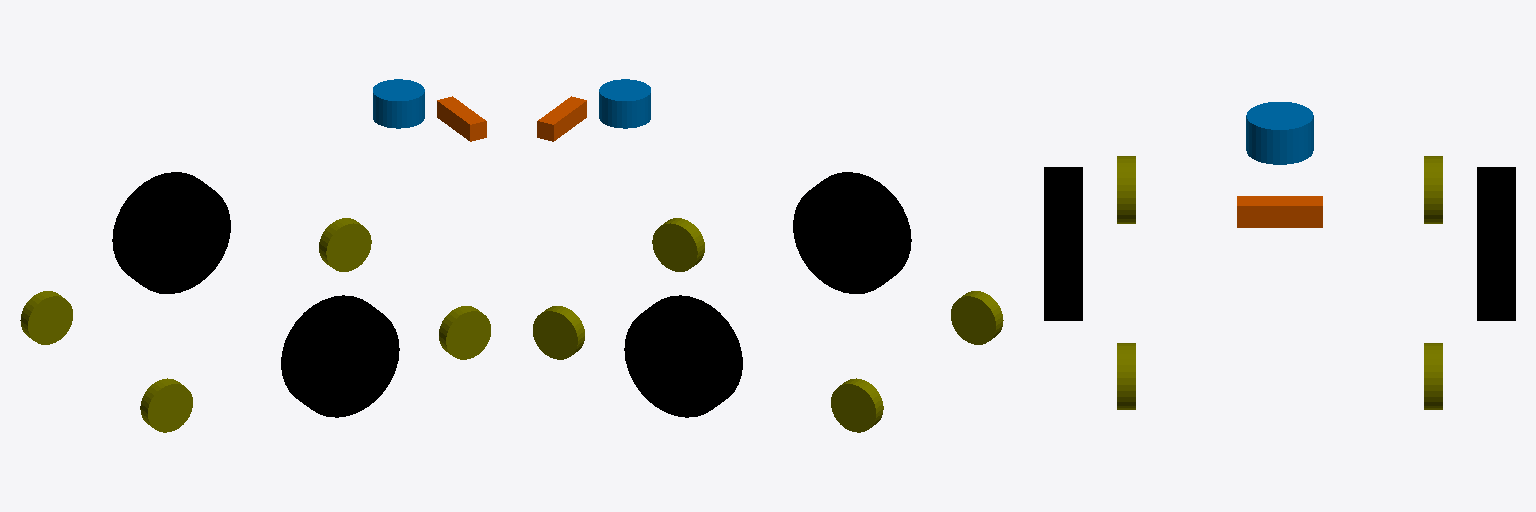
The robot description file, URDF, robot "xxx":
<?xml version="1.0" ?>
<!-- =================================================================================== -->
<!-- |    This document was autogenerated by xacro from src/xxx_gazebo/robot/xxx.xacro | -->
<!-- |    EDITING THIS FILE BY HAND IS NOT RECOMMENDED                                 | -->
<!-- =================================================================================== -->
<robot name="xxx">
  <!-- Read in the yaml dict as mp (short for model parameters) -->
  <!-- Read in the yaml dict as mp (short for model parameters) -->
  <link name="base_link">
    <visual>
      <origin rpy="0.0 0.0 1.5707963267948966" xyz="0.0 0.0 -0.018"/>
      <geometry>
        <mesh filename="[local-path]/xxx2_ws/install/xxx_description/share/xxx_description/meshes/coconut.stl"/>
      </geometry>
      <material name="chassis_color">
        <color rgba="1 1 1 1"/>
      </material>
    </visual>
    <inertial>
      <origin xyz="0.0002 0.0001 -0.0001"/>
      <mass value="40.0"/>
      <inertia ixx="1.79366667" ixy="0" ixz="0" iyy="1.28666667" iyz="0" izz="0.230966667"/>
    </inertial>
    <collision>
      <geometry>
        <box size="0.65 0.55 0.25"/>
      </geometry>
    </collision>
  </link>
  <link name="base_footprint"/>
  <joint name="base_offset" type="fixed">
    <parent link="base_footprint"/>
    <child link="base_link"/>
    <origin xyz="0.0 0.0 0.165"/>
  </joint>
  <link name="left_wheel">
    <visual>
      <origin rpy="0.0 0.0 0.0" xyz="0.0 0.0 0.0"/>
      <geometry>
        <cylinder length="0.04" radius="0.08"/>
      </geometry>
      <material name="left_wheel_color">
        <color rgba="0 0 0 1"/>
      </material>
    </visual>
    <inertial>
      <origin xyz="0 0 0"/>
      <mass value="2.9"/>
      <inertia ixx="0.00564437" ixy="0" ixz="0" iyy="0.00564437" iyz="0" izz="0.01047625"/>
    </inertial>
    <collision>
      <geometry>
        <cylinder length="0.04" radius="0.08"/>
      </geometry>
      <surface>
        <friction>
          <ode>
            <mu>1000</mu>
            <mu2>1000</mu2>
          </ode>
        </friction>
      </surface>
    </collision>
  </link>
  <joint name="left_wheel_joint" type="continuous">
    <origin rpy="-1.5707963267948966 0.0 0.0" xyz="0.0 0.225 -0.085"/>
    <parent link="base_link"/>
    <child link="left_wheel"/>
    <axis xyz="0.0 0.0 1.0"/>
    <joint_properties damping="1.0" friction="1.0"/>
  </joint>
  <link name="right_wheel">
    <visual>
      <origin rpy="0.0 0.0 0.0" xyz="0.0 0.0 0.0"/>
      <geometry>
        <cylinder length="0.04" radius="0.08"/>
      </geometry>
      <material name="right_wheel_color">
        <color rgba="0 0 0 1"/>
      </material>
    </visual>
    <inertial>
      <origin xyz="0 0 0"/>
      <mass value="2.9"/>
      <inertia ixx="0.00564437" ixy="0" ixz="0" iyy="0.00564437" iyz="0" izz="0.01047625"/>
    </inertial>
    <collision>
      <geometry>
        <cylinder length="0.04" radius="0.08"/>
      </geometry>
      <surface>
        <friction>
          <ode>
            <mu>1000</mu>
            <mu2>1000</mu2>
          </ode>
        </friction>
      </surface>
    </collision>
  </link>
  <joint name="right_wheel_joint" type="continuous">
    <origin rpy="-1.5707963267948966 0.0 0.0" xyz="0.0 -0.225 -0.085"/>
    <parent link="base_link"/>
    <child link="right_wheel"/>
    <axis xyz="0.0 0.0 1.0"/>
    <joint_properties damping="1.0" friction="1.0"/>
  </joint>
  <link name="left_front_castor">
    <visual>
      <geometry>
        <cylinder length="0.02" radius="0.035"/>
      </geometry>
      <material name="left_front_castor_color">
        <color rgba="0.5 0.5 0 1"/>
      </material>
    </visual>
    <inertial>
      <origin xyz="0 0 0"/>
      <mass value="0.2"/>
      <inertia ixx="4.437e-05" ixy="0" ixz="0" iyy="4.437e-05" iyz="0" izz="0.00047625"/>
    </inertial>
    <collision>
      <geometry>
        <cylinder length="0.02" radius="0.035"/>
      </geometry>
      <surface>
        <friction>
          <ode>
            <mu>0</mu>
            <mu2>0</mu2>
          </ode>
        </friction>
      </surface>
    </collision>
  </link>
  <joint name="left_front_castor_joint" type="continuous">
    <origin rpy="-1.5707963267948966 0 0" xyz="           0.23            0.16            -0.12990000000000002         "/>
    <parent link="base_link"/>
    <child link="left_front_castor"/>
    <axis xyz="0.0 0.0 1.0"/>
  </joint>
  <link name="right_front_castor">
    <visual>
      <geometry>
        <cylinder length="0.02" radius="0.035"/>
      </geometry>
      <material name="right_front_castor_color">
        <color rgba="0.5 0.5 0 1"/>
      </material>
    </visual>
    <inertial>
      <origin xyz="0 0 0"/>
      <mass value="0.2"/>
      <inertia ixx="4.437e-05" ixy="0" ixz="0" iyy="4.437e-05" iyz="0" izz="0.00047625"/>
    </inertial>
    <collision>
      <geometry>
        <cylinder length="0.02" radius="0.035"/>
      </geometry>
      <surface>
        <friction>
          <ode>
            <mu>0</mu>
            <mu2>0</mu2>
          </ode>
        </friction>
      </surface>
    </collision>
  </link>
  <joint name="right_front_castor_joint" type="continuous">
    <origin rpy="-1.5707963267948966 0 0" xyz="           -0.23            0.16            -0.12990000000000002         "/>
    <parent link="base_link"/>
    <child link="right_front_castor"/>
    <axis xyz="0.0 0.0 1.0"/>
  </joint>
  <link name="left_rear_castor">
    <visual>
      <geometry>
        <cylinder length="0.02" radius="0.035"/>
      </geometry>
      <material name="left_rear_castor_color">
        <color rgba="0.5 0.5 0 1"/>
      </material>
    </visual>
    <inertial>
      <origin xyz="0 0 0"/>
      <mass value="0.2"/>
      <inertia ixx="4.437e-05" ixy="0" ixz="0" iyy="4.437e-05" iyz="0" izz="0.00047625"/>
    </inertial>
    <collision>
      <geometry>
        <cylinder length="0.02" radius="0.035"/>
      </geometry>
      <surface>
        <friction>
          <ode>
            <mu>0</mu>
            <mu2>0</mu2>
          </ode>
        </friction>
      </surface>
    </collision>
  </link>
  <joint name="left_rear_castor_joint" type="continuous">
    <origin rpy="-1.5707963267948966 0 0" xyz="           0.23            -0.16            -0.12990000000000002         "/>
    <parent link="base_link"/>
    <child link="left_rear_castor"/>
    <axis xyz="0.0 0.0 1.0"/>
  </joint>
  <link name="right_rear_castor">
    <visual>
      <geometry>
        <cylinder length="0.02" radius="0.035"/>
      </geometry>
      <material name="right_rear_castor_color">
        <color rgba="0.5 0.5 0 1"/>
      </material>
    </visual>
    <inertial>
      <origin xyz="0 0 0"/>
      <mass value="0.2"/>
      <inertia ixx="4.437e-05" ixy="0" ixz="0" iyy="4.437e-05" iyz="0" izz="0.00047625"/>
    </inertial>
    <collision>
      <geometry>
        <cylinder length="0.02" radius="0.035"/>
      </geometry>
      <surface>
        <friction>
          <ode>
            <mu>0</mu>
            <mu2>0</mu2>
          </ode>
        </friction>
      </surface>
    </collision>
  </link>
  <joint name="right_rear_castor_joint" type="continuous">
    <origin rpy="-1.5707963267948966 0 0" xyz="           -0.23            -0.16            -0.12990000000000002         "/>
    <parent link="base_link"/>
    <child link="right_rear_castor"/>
    <axis xyz="0.0 0.0 1.0"/>
  </joint>
  <link name="left_front_pole">
    <collision>
      <geometry>
        <cylinder length="0.05" radius="0.015"/>
      </geometry>
    </collision>
  </link>
  <joint name="left_front_pole_joint" type="fixed">
    <origin xyz="0.235 0.2 0.15"/>
    <parent link="base_link"/>
    <child link="left_front_pole"/>
  </joint>
  <link name="right_front_pole">
    <collision>
      <geometry>
        <cylinder length="0.05" radius="0.015"/>
      </geometry>
    </collision>
  </link>
  <joint name="right_front_pole_joint" type="fixed">
    <origin xyz="0.235 -0.2 0.15"/>
    <parent link="base_link"/>
    <child link="right_front_pole"/>
  </joint>
  <link name="left_rear_pole">
    <collision>
      <geometry>
        <cylinder length="0.05" radius="0.015"/>
      </geometry>
    </collision>
  </link>
  <joint name="left_rear_pole_joint" type="fixed">
    <origin xyz="-0.235 0.2 0.15"/>
    <parent link="base_link"/>
    <child link="left_rear_pole"/>
  </joint>
  <link name="right_rear_pole">
    <collision>
      <geometry>
        <cylinder length="0.05" radius="0.015"/>
      </geometry>
    </collision>
  </link>
  <joint name="right_rear_pole_joint" type="fixed">
    <origin xyz="-0.235 -0.2 0.15"/>
    <parent link="base_link"/>
    <child link="right_rear_pole"/>
  </joint>
  <link name="lidar_link">
    <visual>
      <geometry>
        <cylinder length="0.04" radius="0.035"/>
      </geometry>
    </visual>
  </link>
  <joint name="lidar_mount" type="fixed">
    <origin xyz="0.22 0.0 0.145"/>
    <parent link="base_link"/>
    <child link="lidar_link"/>
  </joint>
  <link name="camera_link">
    <visual>
      <origin rpy="0 0 0" xyz="0 0 0"/>
      <geometry>
        <box size="0.025 0.09 0.025"/>
      </geometry>
    </visual>
  </link>
  <link name="camera_optical"/>
  <joint name="camera_joint" type="fixed">
    <parent link="base_link"/>
    <child link="camera_link"/>
    <origin xyz="0.317 0 0.1"/>
  </joint>
  <joint name="camera_optical_mount" type="fixed">
    <parent link="camera_link"/>
    <child link="camera_optical"/>
    <origin rpy="-1.5707963267948966 0 -1.5707963267948966" xyz="0 0 0"/>
  </joint>
  <link name="imu_link"/>
  <joint name="imu_mount" type="fixed">
    <parent link="base_link"/>
    <child link="imu_link"/>
    <origin rpy="0 0 0" xyz="0 0 0"/>
  </joint>
  <gazebo reference="base_link">
    <material>Gazebo/White</material>
  </gazebo>
  <gazebo reference="left_wheel">
    <material>Gazebo/Black</material>
  </gazebo>
  <gazebo reference="right_wheel">
    <material>Gazebo/Black</material>
  </gazebo>
  <gazebo reference="left_front_castor">
    <material>Gazebo/Yellow</material>
  </gazebo>
  <gazebo reference="right_front_castor">
    <material>Gazebo/Yellow</material>
  </gazebo>
  <gazebo reference="left_rear_castor">
    <material>Gazebo/Yellow</material>
  </gazebo>
  <gazebo reference="right_rear_castor">
    <material>Gazebo/Yellow</material>
  </gazebo>
  <!-- imu -->
  <gazebo reference="imu_link">
    <gravity>true</gravity>
    <sensor name="imu_sensor" type="imu">
      <always_on>true</always_on>
      <update_rate>10</update_rate>
      <visualize>true</visualize>
      <topic>__default_topic__</topic>
      <plugin filename="libgazebo_ros_imu_sensor.so" name="imu_plugin">
        <ros>
          <remapping>~/out:=imu</remapping>
        </ros>
        <topicName>imu</topicName>
        <bodyName>imu_link</bodyName>
        <updateRateHZ>10.0</updateRateHZ>
        <gaussianNoise>0.05</gaussianNoise>
        <xyzOffset>0 0 0</xyzOffset>
        <rpyOffset>0 0 0</rpyOffset>
        <frame_name>imu_link</frame_name>
        <initialOrientationAsReference>false</initialOrientationAsReference>
      </plugin>
      <pose>0 0 0 0 0 0</pose>
    </sensor>
  </gazebo>
  <!-- lidar-->
  <gazebo reference="lidar_link">
    <sensor name="lidar_sensor" type="ray">
      <pose>0 0 0 0 0 0</pose>
      <visualize>true</visualize>
      <always_on>true</always_on>
      <update_rate>40</update_rate>
      <ray>
        <scan>
          <horizontal>
            <samples>720</samples>
            <resolution>1</resolution>
            <min_angle>-3.1415926</min_angle>
            <max_angle>3.1415926</max_angle>
          </horizontal>
        </scan>
        <range>
          <min>0.05</min>
          <max>16.0</max>
          <resolution>0.03</resolution>
        </range>
        <noise>
          <type>gaussian</type>
          <mean>0.0</mean>
          <stddev>0.03</stddev>
        </noise>
      </ray>
      <plugin filename="libgazebo_ros_ray_sensor.so" name="lidar_controller">
        <ros>
          <remapping>~/out:=scan</remapping>
        </ros>
        <output_type>sensor_msgs/LaserScan</output_type>
        <topicName>scan</topicName>
        <frame_name>lidar_link</frame_name>
      </plugin>
    </sensor>
  </gazebo>
  <gazebo reference="camera_link">
    <sensor name="camera" type="depth">
      <always_on>1</always_on>
      <update_rate>20.0</update_rate>
      <camera name="d435">
        <pose>0 0 0 0 0 3.14</pose>
        <horizontal_fov>1.3962634</horizontal_fov>
        <image>
          <width>1600</width>
          <height>900</height>
          <format>R8G8B8</format>
        </image>
        <clip>
          <near>0.005</near>
          <far>10.0</far>
        </clip>
      </camera>
      <plugin filename="libgazebo_ros_camera.so" name="camera_controller">
        <baseline>0.2</baseline>
        <alwaysOn>true</alwaysOn>
        <updateRate>1.0</updateRate>
        <cameraName>camera</cameraName>
        <imageTopicName>color/image_raw</imageTopicName>
        <cameraInfoTopicName>color/camera_info</cameraInfoTopicName>
        <frame_name>camera_link</frame_name>
        <hackBaseline>0.07</hackBaseline>
      </plugin>
    </sensor>
  </gazebo>
  <ros2_control name="GazeboSystem" type="system">
    <hardware>
      <plugin>gazebo_ros2_control/GazeboSystem</plugin>
    </hardware>
    <joint name="left_wheel_joint">
      <command_interface name="effort"/>
      <command_interface name="velocity"/>
      <state_interface name="velocity"/>
      <state_interface name="effort"/>
    </joint>
    <joint name="right_wheel_joint">
      <command_interface name="effort"/>
      <command_interface name="velocity"/>
      <state_interface name="velocity"/>
      <state_interface name="effort"/>
    </joint>
  </ros2_control>
  <gazebo>
    <plugin filename="libgazebo_ros2_control.so" name="gazebo_ros2_wheel_control">
      <parameters>[local-path]/FRA532_Mobile_Robot/cocoam/src/xxx_gazebo/config/ros2_controllers_config.yaml</parameters>
    </plugin>
  </gazebo>
</robot>

--- Render facts (derived) ---
Views: 3 orthographic renders of the robot side by side, from view 1: azimuth 30°, elevation 25°; view 2: azimuth 150°, elevation 25°; view 3: azimuth 270°, elevation 25°.
Robot: xxx — 16 links, 15 joints (6 continuous, 9 fixed); root link base_footprint; default pose: every joint at zero.
Links seen in each view (by area): view 1: left_wheel, right_wheel, lidar_link, left_front_castor, right_front_castor, right_rear_castor, left_rear_castor, camera_link; view 2: right_wheel, left_wheel, lidar_link, left_rear_castor, right_front_castor, right_rear_castor, left_front_castor, camera_link; view 3: left_wheel, right_wheel, lidar_link, camera_link, right_front_castor, right_rear_castor, left_front_castor, left_rear_castor.
Boxes of the visible links, x1,y1,x2,y2 form: left_wheel: (112,172,230,293); right_wheel: (281,295,399,417); lidar_link: (373,79,424,128); left_front_castor: (319,218,371,271); right_front_castor: (20,291,72,344); right_rear_castor: (140,378,192,432); left_rear_castor: (439,306,490,359); camera_link: (437,96,486,141); right_wheel: (793,172,911,293); left_wheel: (624,295,742,417); lidar_link: (599,79,650,128); left_rear_castor: (652,218,704,271); right_front_castor: (831,378,883,432); right_rear_castor: (951,291,1003,344); left_front_castor: (533,306,584,359); camera_link: (537,96,586,141); left_wheel: (1477,167,1515,320); right_wheel: (1044,167,1082,320); lidar_link: (1246,102,1313,164); camera_link: (1237,196,1322,227); right_front_castor: (1424,156,1442,223); right_rear_castor: (1117,156,1135,223); left_front_castor: (1424,343,1442,409); left_rear_castor: (1117,343,1135,409).
Bounding box of the posed robot: 0.5945 × 0.49 × 0.33 m (x, y, z).
Geometry: only primitive shapes (box / cylinder / sphere) drawn; not drawn: 1 mesh visual (reference in a form the renderer does not follow).
